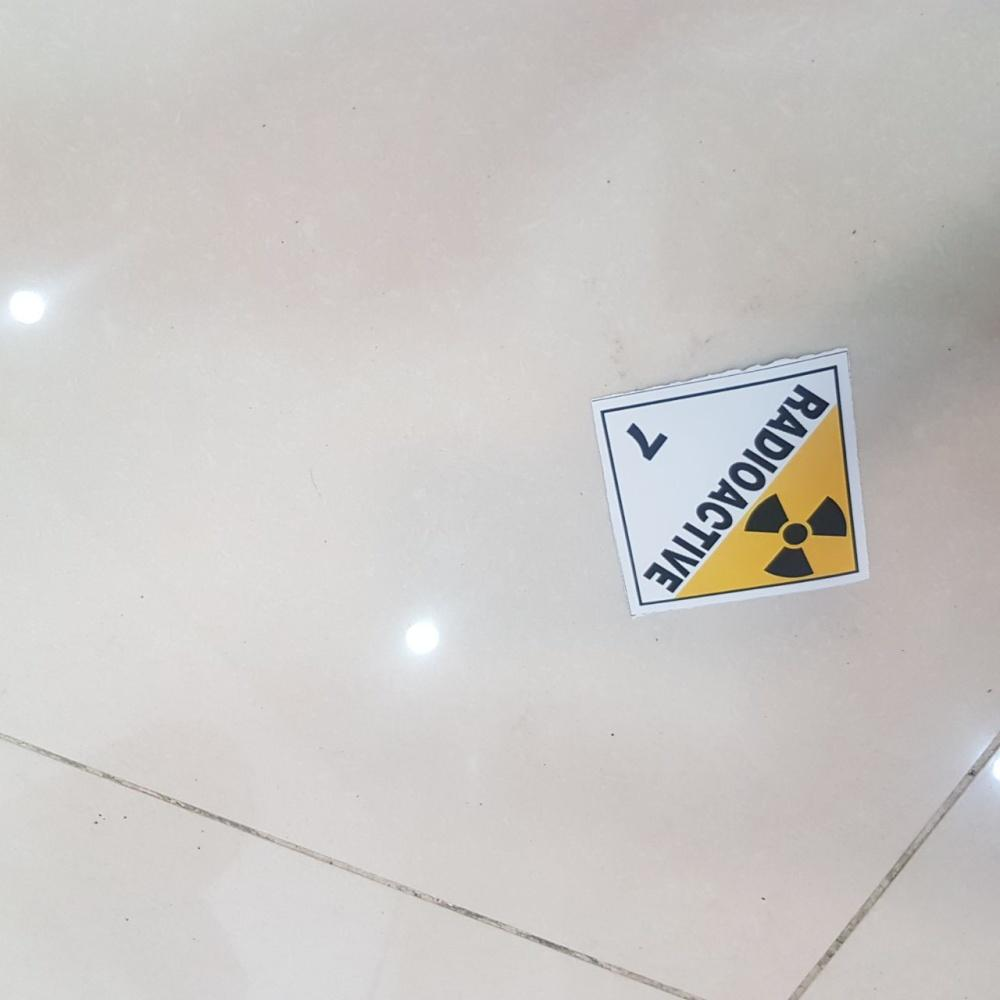radioactive: (593, 348, 872, 613)
